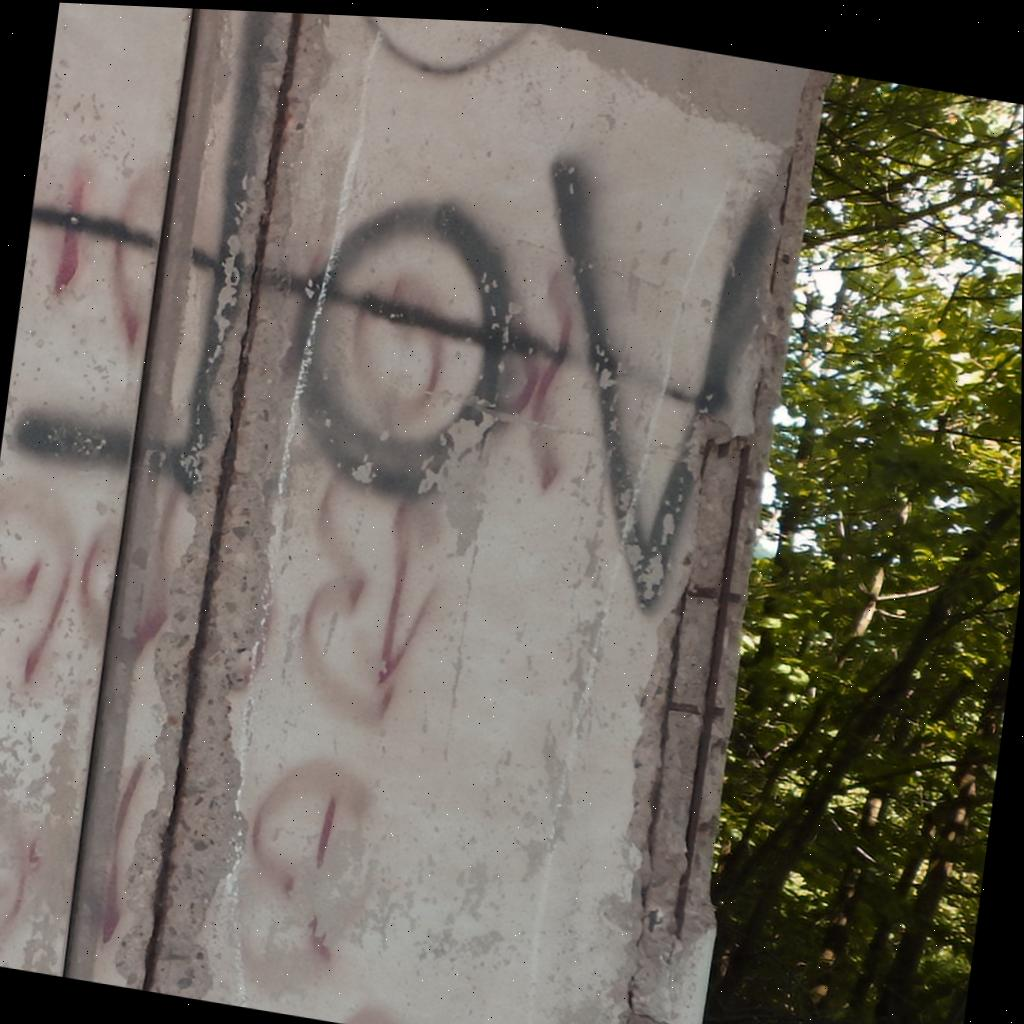exposed_rebar: (675, 446, 750, 928), (694, 585, 712, 599), (672, 704, 697, 713)
spalling: (625, 69, 826, 1024)
